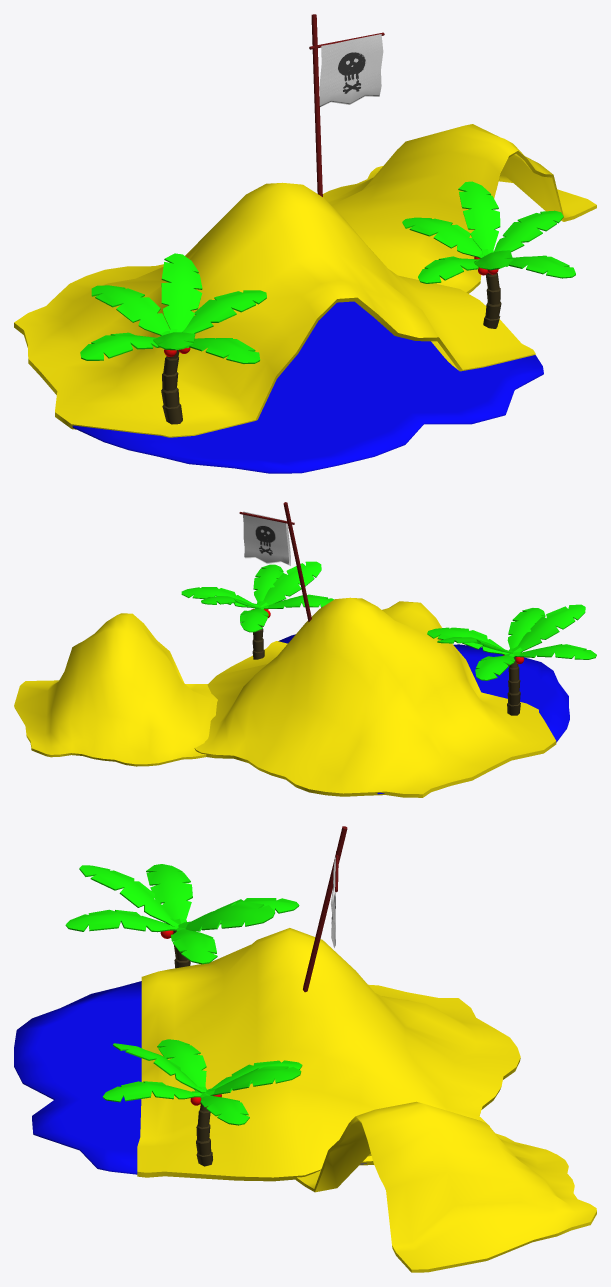
Rendered from PirateIslandToy.FBX.
3 renders of one model, top to bottom at view 1: azimuth 30°, elevation 25°; view 2: azimuth 150°, elevation 25°; view 3: azimuth 270°, elevation 25°, orthographic. The views are drawn at different scales.
Visible parts, largest first — view 1: PirateIslandToy; view 2: PirateIslandToy; view 3: PirateIslandToy.
Part boxes in pixels (<box>): PirateIslandToy: <box>14,14,596,473</box>; PirateIslandToy: <box>14,502,596,797</box>; PirateIslandToy: <box>14,826,596,1272</box>.
Size of the model in its own units: 14.85 by 6.55 by 11.79.
